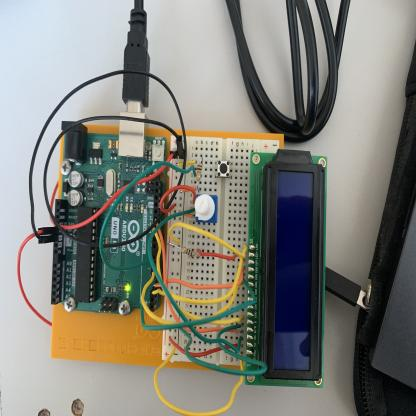5V: (57, 151, 173, 230), (14, 230, 53, 327)
ARDUINO: (55, 134, 167, 314)
Breadboard: (163, 136, 281, 370)
Button: (218, 160, 230, 177)
GND: (28, 67, 188, 247)
LCD: (247, 149, 326, 383)
Long wire: (148, 206, 244, 355), (99, 160, 197, 271), (156, 221, 241, 333), (152, 226, 245, 325), (154, 344, 245, 416), (140, 277, 258, 331), (141, 271, 244, 327), (178, 323, 268, 377), (153, 257, 244, 305), (168, 222, 247, 259), (156, 264, 246, 290), (168, 334, 241, 357), (160, 186, 195, 213), (198, 248, 238, 263)
Potentiometer: (195, 194, 218, 223)
Resistor: (168, 243, 200, 258), (196, 158, 203, 182)
Short wire: (178, 159, 196, 167), (182, 186, 197, 194), (181, 211, 193, 218)
